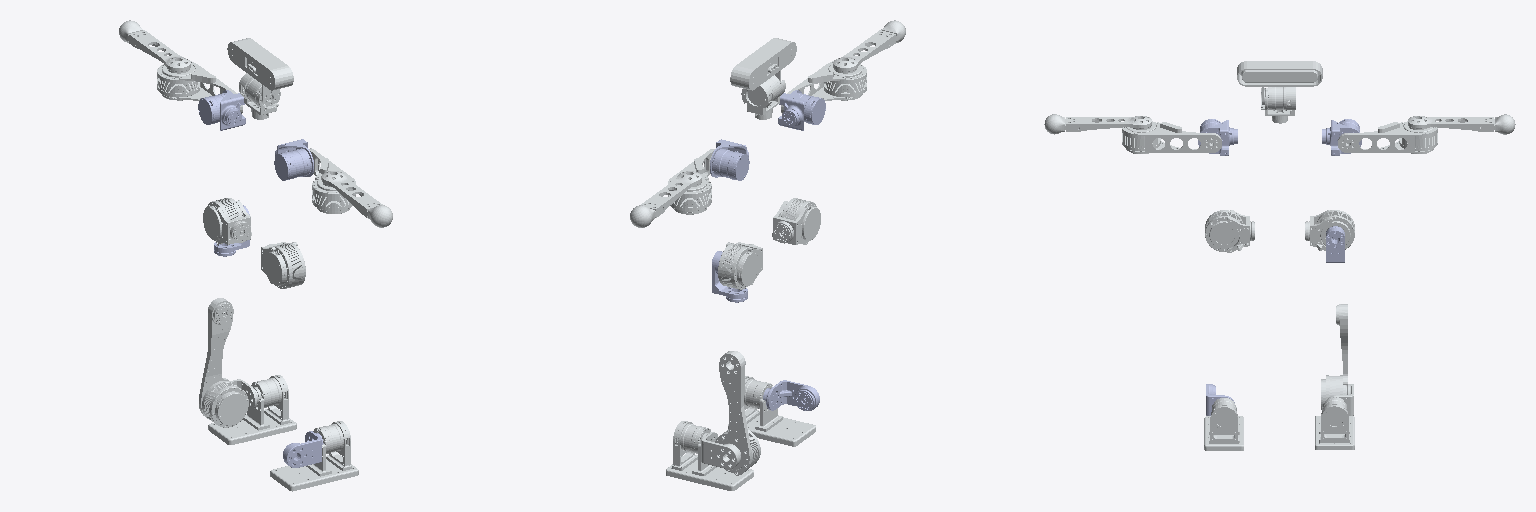
The robot description file, URDF, robot "MOS92_urdf_0308":
<?xml version='1.0' encoding='utf-8'?>
<robot name="MOS92_urdf_0308">
  <link name="base_link">
    <inertial>
      <origin xyz="-0.0182501208826118 -0.00190049970240902 0.0863636963583089" rpy="0 0 0" />
      <mass value="4.35806806126274" />
      <inertia ixx="0.0126554214449882" ixy="-1.94365827372157E-06" ixz="-0.000106200880503345" iyy="0.00838591116778958" iyz="-3.40121566836312E-07" izz="0.00895360202585989" />
    </inertial>
    <visual>
      <origin xyz="0 0 0" rpy="0 0 0" />
      <geometry>
        <mesh filename="../meshes/body.STL" />
      </geometry>
      <material name="">
        <color rgba="0.898039215686275 0.917647058823529 0.929411764705882 1" />
      </material>
    </visual>
    <collision>
      <origin xyz="-0.02 0 0.14" rpy="0 0 0" />
      <geometry>
        <cylinder radius="0.10" length="0.2" /></geometry>
    </collision>
  </link>
  <link name="neck">
    <inertial>
      <origin xyz="-0.000187733021383862 0.00313210111852241 0.0367257386628151" rpy="0 0 0" />
      <mass value="0.243152851941267" />
      <inertia ixx="0.000107527809141662" ixy="2.32844382833212E-09" ixz="-3.79598574699867E-07" iyy="0.000106047679861548" iyz="6.89109259403018E-06" izz="0.000100507717987487" />
    </inertial>
    <visual>
      <origin xyz="0 0 0" rpy="0 0 0" />
      <geometry>
        <mesh filename="../meshes/neck.STL" />
      </geometry>
      <material name="">
        <color rgba="0.898039215686275 0.917647058823529 0.929411764705882 1" />
      </material>
    </visual>
    <!-- <collision>
      <origin xyz="0 0 0" rpy="0 0 0" />
      <geometry>
        <cylinder radius="0.0193" length="0.0882" /></geometry>
    </collision> -->
  </link>
  <joint name="neck_yaw" type="fixed">
    <origin xyz="-0.005 0 0.2441" rpy="0 0 0" />
    <parent link="base_link" />
    <child link="neck" />
    <axis xyz="0 0 -1" />
  </joint>
  <link name="head">
    <inertial>
      <origin xyz="-0.00148614977503109 0.0537575763860302 -0.0296115992755681" rpy="0 0 0" />
      <mass value="0.322467436272026" />
      <inertia ixx="0.000786985359858465" ixy="8.48624102566507E-08" ixz="3.88916575671315E-09" iyy="0.000779452507232674" iyz="-7.57222414279963E-06" izz="9.3920453594969E-05" />
    </inertial>
    <visual>
      <origin xyz="0 0 0" rpy="0 0 0" />
      <geometry>
        <mesh filename="../meshes/head.STL" />
      </geometry>
      <material name="">
        <color rgba="0.898039215686275 0.917647058823529 0.929411764705882 1" />
      </material>
    </visual>
    <collision>
      <origin xyz="0 0.045 -0.03" rpy="0 0 0" />
      <geometry>
        <cylinder radius="0.04" length="0.2" /></geometry>
    </collision>
  </link>
  <joint name="neck_pitch" type="fixed">
    <origin xyz="0 -0.033 0.0475" rpy="1.5707963267949 0 0" />
    <parent link="neck" />
    <child link="head" />
    <axis xyz="0 0 -1" />
  </joint>
  <link name="Rshoulder">
    <inertial>
      <origin xyz="-0.00132059633693976 5.62178901126614E-05 -0.0337001041277888" rpy="0 0 0" />
      <mass value="0.244736730758832" />
      <inertia ixx="0.000129373968243136" ixy="-8.60991135369166E-08" ixz="1.2078891148474E-05" iyy="8.79104114782035E-05" iyz="-2.4422653123027E-07" izz="0.000106520121171402" />
    </inertial>
    <visual>
      <origin xyz="0 0 0" rpy="0 0 0" />
      <geometry>
        <mesh filename="../meshes/Rshoulder.STL" />
      </geometry>
      <material name="">
        <color rgba="0.792156862745098 0.819607843137255 0.933333333333333 1" />
      </material>
    </visual>
    <!-- <collision>
      <origin xyz="0 0 0" rpy="0 0 0" />
      <geometry>
        <cylinder radius="0.0367" length="0.0914" /></geometry>
    </collision> -->
  </link>
  <joint name="right_shoulder_pitch" type="revolute">
    <origin xyz="-0.0100000000000138 -0.105000000000124 0.192100000000112" rpy="1.5707963267949 0 -3.14159265358979" />
    <parent link="base_link" />
    <child link="Rshoulder" />
    <axis xyz="0 0 -1" />
    <limit lower="-2.0" upper="2.0" />
  </joint>
  <link name="Rarm">
    <inertial>
      <origin xyz="0.123976619673335 2.3816494963344E-05 0.0179849541694587" rpy="0 0 0" />
      <mass value="0.505922675972045" />
      <inertia ixx="0.000249177335899191" ixy="2.41233180203102E-05" ixz="5.12994020146406E-05" iyy="0.000863279087734146" iyz="8.96071856183868E-06" izz="0.000769798783434279" />
    </inertial>
    <visual>
      <origin xyz="0 0 0" rpy="0 0 0" />
      <geometry>
        <mesh filename="../meshes/Rarm.STL" />
      </geometry>
      <material name="">
        <color rgba="0.898039215686275 0.917647058823529 0.929411764705882 1" />
      </material>
    </visual>
    <collision>
      <origin xyz="0.05 0 0.01" rpy="0 1.5707963267949 0" />
      <geometry>
        <cylinder radius="0.03" length="0.15" /></geometry>
    </collision>
  </link>
  <joint name="right_shoulder_roll" type="revolute">
    <origin xyz="-0.0250000000000136 0 -0.0489999999998756" rpy="0 1.5707963267949 0" />
    <parent link="Rshoulder" />
    <child link="Rarm" />
    <axis xyz="0 0 1" />
    <limit lower="-1.45" upper="1.5707963267949" />
  </joint>
  <link name="Rhand">
    <inertial>
      <origin xyz="0.109240589043814 0.000677471556759845 -0.00178541903634942" rpy="0 0 0" />
      <mass value="0.273862324070502" />
      <inertia ixx="5.2613968285487E-05" ixy="4.01189603422068E-06" ixz="2.85280392770804E-05" iyy="0.000699576611389701" iyz="1.76848091002788E-07" izz="0.000725679519367959" />
    </inertial>
    <visual>
      <origin xyz="0 0 0" rpy="0 0 0" />
      <geometry>
        <mesh filename="../meshes/Rhand.STL" />
      </geometry>
      <material name="">
        <color rgba="0.898039215686275 0.917647058823529 0.929411764705882 1" />
      </material>
    </visual>
    <collision>
      <origin xyz="0.09 0 0" rpy="0 1.5707963267949 0" />
      <geometry>
        <cylinder radius="0.02" length="0.15" /></geometry>
    </collision>
    <collision>
      <origin xyz="0.195 0 0" rpy="0 1.5707963267949 0" />
      <geometry>
        <sphere radius="0.024" /></geometry>
    </collision>
  </link>
  <joint name="right_elbow" type="revolute">
    <origin xyz="0.16 0.0286499999999997 0.0299999999999999" rpy="1.5707963267949 0 0" />
    <parent link="Rarm" />
    <child link="Rhand" />
    <axis xyz="0 0 -1" />
    <limit lower="-2.5" upper="2.5" />
  </joint>
  <link name="Lshoulder">
    <inertial>
      <origin xyz="0.00132063035506957 5.63171682046171E-05 -0.0337001075421161" rpy="0 0 0" />
      <mass value="0.244736778509988" />
      <inertia ixx="0.000129374049886736" ixy="8.53358338819827E-08" ixz="-1.20789422702937E-05" iyy="8.79120362451655E-05" iyz="-2.4164238223282E-07" izz="0.000106518334762561" />
    </inertial>
    <visual>
      <origin xyz="0 0 0" rpy="0 0 0" />
      <geometry>
        <mesh filename="../meshes/Lshoulder.STL" />
      </geometry>
      <material name="">
        <color rgba="0.792156862745098 0.819607843137255 0.933333333333333 1" />
      </material>
    </visual>
    <!-- <collision>
      <origin xyz="0 0 0" rpy="0 0 0" />
      <geometry>
        <cylinder radius="0.0367" length="0.0914" /></geometry>
    </collision> -->
  </link>
  <joint name="left_shoulder_pitch" type="revolute">
    <origin xyz="-0.00999998124092416 0.105000001016346 0.192100005298829" rpy="1.5707963267949 0 0" />
    <parent link="base_link" />
    <child link="Lshoulder" />
    <axis xyz="0 0 -1" />
    <limit lower="-2.0" upper="2.0" />
  </joint>
  <link name="Larm">
    <inertial>
      <origin xyz="0.123966814199197 2.38166802215833E-05 -0.017975150553097" rpy="0 0 0" />
      <mass value="0.505922690783429" />
      <inertia ixx="0.000249179325079772" ixy="2.41233167513086E-05" ixz="-5.12994012520643E-05" iyy="0.000863279097732329" iyz="-8.96071866395451E-06" izz="0.000769796795530053" />
    </inertial>
    <visual>
      <origin xyz="0 0 0" rpy="0 0 0" />
      <geometry>
        <mesh filename="../meshes/Larm.STL" />
      </geometry>
      <material name="">
        <color rgba="0.898039215686275 0.917647058823529 0.929411764705882 1" />
      </material>
    </visual>
    <collision>
      <origin xyz="0.05 0 -0.01" rpy="0 1.5707963267949 0" />
      <geometry>
        <cylinder radius="0.03" length="0.15" /></geometry>
    </collision>
  </link>
  <joint name="left_shoulder_roll" type="revolute">
    <origin xyz="0.0249999812409242 0 -0.0489999989836545" rpy="0 1.5707963267949 0" />
    <parent link="Lshoulder" />
    <child link="Larm" />
    <axis xyz="0 0 -1" />
    <limit lower="-1.5707963267949" upper="1.45" />
  </joint>
  <link name="Lhand">
    <inertial>
      <origin xyz="-0.109242689903327 -2.67381965457503E-08 -0.00178541891944009" rpy="0 0 0" />
      <mass value="0.273862322424458" />
      <inertia ixx="5.25890920084874E-05" ixy="-3.81681361599439E-10" ixz="-2.85285855769356E-05" iyy="0.000699601487073087" iyz="6.71512616747776E-11" izz="0.000725679519010215" />
    </inertial>
    <visual>
      <origin xyz="0 0 0" rpy="0 0 0" />
      <geometry>
        <mesh filename="../meshes/Lhand.STL" />
      </geometry>
      <material name="">
        <color rgba="0.898039215686275 0.917647058823529 0.929411764705882 1" />
      </material>
    </visual>
    <collision>
      <origin xyz="-0.09 0 0" rpy="0 1.5707963267949 0" />
      <geometry>
        <cylinder radius="0.02" length="0.15" /></geometry>
    </collision>
    <collision>
      <origin xyz="-0.195 0 0" rpy="0 1.5707963267949 0" />
      <geometry>
        <sphere radius="0.024" /></geometry>
    </collision>
  </link>
  <joint name="left_elbow" type="revolute">
    <origin xyz="0.16 0.0286500000000008 -0.0299999999999989" rpy="-1.5707963267949 0 3.14159265358979" />
    <parent link="Larm" />
    <child link="Lhand" />
    <axis xyz="0 0 -1" />
    <limit lower="-2.5" upper="2.5" />
  </joint>
  <link name="Rhip">
    <inertial>
      <origin xyz="0.00165224983746645 -0.000153256597703239 -0.04716983324128" rpy="0 0 0" />
      <mass value="0.447922579537738" />
      <inertia ixx="0.000336557260611948" ixy="6.73410632138989E-07" ixz="-1.54851819022286E-07" iyy="0.000175984295076371" iyz="-3.79544774009115E-08" izz="0.00021248524943445" />
    </inertial>
    <visual>
      <origin xyz="0 0 0" rpy="0 0 0" />
      <geometry>
        <mesh filename="../meshes/Rhip.STL" />
      </geometry>
      <material name="">
        <color rgba="0.898039215686275 0.917647058823529 0.929411764705882 1" />
      </material>
    </visual>
    <!-- <collision>
      <origin xyz="0 0 0" rpy="0 0 0" />
      <geometry>
        <cylinder radius="0.044" length="0.113" /></geometry>
    </collision> -->
  </link>
  <joint name="right_hip_pitch" type="revolute">
    <origin xyz="-0.0150000000000001 -0.0645 -0.0466" rpy="1.5707963267949 0 3.14159265358979" />
    <parent link="base_link" />
    <child link="Rhip" />
    <axis xyz="0 0 1" />
    <limit lower="-1.8" upper="1.8" />
  </joint>
  <link name="Rlap">
    <inertial>
      <origin xyz="3.09121089836495E-10 -0.031721697647471 0.000916614078336042" rpy="0 0 0" />
      <mass value="0.175119556314121" />
      <inertia ixx="0.000155307669924318" ixy="1.87603158621217E-12" ixz="3.79507968706983E-13" iyy="7.5052789038172E-05" iyz="-3.48905088975491E-05" izz="0.000137460344788302" />
    </inertial>
    <visual>
      <origin xyz="0 0 0" rpy="0 0 0" />
      <geometry>
        <mesh filename="../meshes/Rlap.STL" />
      </geometry>
      <material name="">
        <color rgba="0.898039215686275 0.917647058823529 0.929411764705882 1" />
      </material>
    </visual>
    <!-- <collision>
      <origin xyz="0 0 0" rpy="0 0 0" />
      <geometry>
        <cylinder radius="0.0468" length="0.0685" /></geometry>
    </collision> -->
  </link>
  <joint name="right_hip_roll" type="revolute">
    <origin xyz="-0.0275 0 -0.061" rpy="0 1.5707963267949 0" />
    <parent link="Rhip" />
    <child link="Rlap" />
    <axis xyz="0 0 -1" />
    <limit lower="-1.5707963267949" upper="0.25" />
  </joint>
  <link name="Rleg1">
    <inertial>
      <origin xyz="0.000530354807968397 -0.00413771934599061 -0.0824206235447885" rpy="0 0 0" />
      <mass value="0.966091751905849" />
      <inertia ixx="0.00165524755190869" ixy="6.84286273811622E-06" ixz="-4.97413624702097E-05" iyy="0.00139196745796225" iyz="7.9840999362446E-05" izz="0.000841039186200865" />
    </inertial>
    <visual>
      <origin xyz="0 0 0" rpy="0 0 0" />
      <geometry>
        <mesh filename="../meshes/Rleg1.STL" />
      </geometry>
      <material name="">
        <color rgba="0.898039215686275 0.917647058823529 0.929411764705882 1" />
      </material>
    </visual>
    <collision>
      <origin xyz="0 0 0" rpy="0 0 0" />
      <geometry>
        <cylinder radius="0.030" length="0.130" /></geometry>
    </collision>
  </link>
  <joint name="right_hip_yaw" type="revolute">
    <origin xyz="0 -0.063 0.0280000000000001" rpy="1.5707963267949 0 3.14159265358979" />
    <parent link="Rlap" />
    <child link="Rleg1" />
    <axis xyz="0 0 -1" />
    <limit lower="-1.5707963267949" upper="1.5707963267949" />
  </joint>
  <link name="Rleg2">
    <inertial>
      <origin xyz="-0.00407191869623438 -0.135567799725998 -0.00123327776602503" rpy="0 0 0" />
      <mass value="0.624084469676422" />
      <inertia ixx="0.00145322270859193" ixy="0.00017224973098276" ixz="-4.17604226750762E-06" iyy="0.000231800595801017" iyz="-3.19103261849037E-05" izz="0.00164919662535833" />
    </inertial>
    <visual>
      <origin xyz="0 0 0" rpy="0 0 0" />
      <geometry>
        <mesh filename="../meshes/Rleg2.STL" />
      </geometry>
      <material name="">
        <color rgba="0.898039215686275 0.917647058823529 0.929411764705882 1" />
      </material>
    </visual>
    <collision>
      <origin xyz="-0.005 -0.04 0" rpy="1.5707963267949 0 -0.1" />
      <geometry>
        <cylinder radius="0.028" length="0.15" /></geometry>
    </collision>
  </link>
  <joint name="right_knee" type="revolute">
    <origin xyz="-0.00900000000000004 0 -0.146" rpy="1.5707963267949 0 -1.5707963267949" />
    <parent link="Rleg1" />
    <child link="Rleg2" />
    <axis xyz="0 0 -1" />
    <limit lower="-1.0" upper="2.3" />
  </joint>
  <link name="Rankle">
    <inertial>
      <origin xyz="0.0321512482443131 -4.59865812096893E-10 -0.00303590911349036" rpy="0 0 0" />
      <mass value="0.187524858365076" />
      <inertia ixx="8.43581348561701E-05" ixy="-5.54891405587586E-12" ixz="-5.16990624082217E-05" iyy="0.000197060970011504" iyz="4.7559976232924E-12" izz="0.000176852205140379" />
    </inertial>
    <visual>
      <origin xyz="0 0 0" rpy="0 0 0" />
      <geometry>
        <mesh filename="../meshes/Rankle.STL" />
      </geometry>
      <material name="">
        <color rgba="0.792156862745098 0.819607843137255 0.933333333333333 1" />
      </material>
    </visual>
    <!-- <collision>
      <origin xyz="0 0 0" rpy="0 0 0" />
      <geometry>
        <cylinder radius="0.052" length="0.067" /></geometry>
    </collision> -->
  </link>
  <joint name="right_ankle_pitch" type="revolute">
    <origin xyz="0 -0.2 0.0177999999999997" rpy="0 0 0" />
    <parent link="Rleg2" />
    <child link="Rankle" />
    <axis xyz="0 0 -1" />
    <limit lower="-0.9" upper="2.1" />
  </joint>
  <link name="Rfoot">
    <inertial>
      <origin xyz="8.61075291624935E-09 -0.0355878322875397 0.0190508449468564" rpy="0 0 0" />
      <mass value="0.444249339436953" />
      <inertia ixx="0.000484874156663831" ixy="-1.04013978438541E-09" ixz="8.17922954088945E-12" iyy="0.000600950991503066" iyz="3.7593433377245E-06" izz="0.00032562953876197" />
    </inertial>
    <visual>
      <origin xyz="0 0 0" rpy="0 0 0" />
      <geometry>
        <mesh filename="../meshes/Rfoot.STL" />
      </geometry>
      <material name="">
        <color rgba="0.898039215686275 0.917647058823529 0.929411764705882 1" />
      </material>
    </visual>
    <collision>
      <origin xyz="0 0 0" rpy="0 0 0" />
      <geometry>
        <cylinder radius="0.03" length="0.13" /></geometry>
    </collision>
    <collision>
      <origin xyz="0.024 -0.055 -0.005" rpy="0 0 0" />
      <geometry>
        <cylinder radius="0.022" length="0.16" /></geometry>
    </collision>
    <collision>
      <origin xyz="-0.024 -0.055 -0.005" rpy="0 0 0" />
      <geometry>
        <cylinder radius="0.022" length="0.16" /></geometry>
    </collision>
  </link>
  <joint name="right_ankle_roll" type="revolute">
    <origin xyz="0.0689999999999583 0 -0.0259999999999973" rpy="0 1.5707963267949 0" />
    <parent link="Rankle" />
    <child link="Rfoot" />
    <axis xyz="0 0 1" />
    <limit lower="-0.7" upper="0.7" />
  </joint>
  <link name="Lhip">
    <inertial>
      <origin xyz="0.00165224894900179 -7.3220696434062E-05 0.0471698378385199" rpy="0 0 0" />
      <mass value="0.447922591167837" />
      <inertia ixx="0.000336557268700897" ixy="6.73410419859425E-07" ixz="1.54852005222124E-07" iyy="0.000175984305860162" iyz="4.25225663555847E-08" izz="0.00021248524919222" />
    </inertial>
    <visual>
      <origin xyz="0 0 0" rpy="0 0 0" />
      <geometry>
        <mesh filename="../meshes/Lhip.STL" />
      </geometry>
      <material name="">
        <color rgba="0.898039215686275 0.917647058823529 0.929411764705882 1" />
      </material>
    </visual>
    <!-- <collision>
      <origin xyz="0 0 0" rpy="0 0 0" />
      <geometry>
        <cylinder radius="0.044" length="0.113" /></geometry>
    </collision> -->
  </link>
  <joint name="left_hip_pitch" type="revolute">
    <origin xyz="-0.0150000000000001 0.0645 -0.0466" rpy="1.5707963267949 0 3.14159265358979" />
    <parent link="base_link" />
    <child link="Lhip" />
    <axis xyz="0 0 -1" />
    <limit lower="-1.8" upper="1.8" />
  </joint>
  <link name="Llap">
    <inertial>
      <origin xyz="3.09119480013109E-10 -0.0317216976474549 0.00091661407832061" rpy="0 0 0" />
      <mass value="0.175119556314121" />
      <inertia ixx="0.000155307669924318" ixy="1.87603139572582E-12" ixz="3.79508076653435E-13" iyy="7.5052789038172E-05" iyz="-3.48905088975491E-05" izz="0.000137460344788301" />
    </inertial>
    <visual>
      <origin xyz="0 0 0" rpy="0 0 0" />
      <geometry>
        <mesh filename="../meshes/Llap.STL" />
      </geometry>
      <material name="">
        <color rgba="0.792156862745098 0.819607843137255 0.933333333333333 1" />
      </material>
    </visual>
    <!-- <collision>
      <origin xyz="0 0 0" rpy="0 0 0" />
      <geometry>
        <cylinder radius="0.0468" length="0.0685" /></geometry>
    </collision> -->
  </link>
  <joint name="left_hip_roll" type="revolute">
    <origin xyz="-0.027499999999988 9.99999999794776E-05 0.0609999999999988" rpy="0 1.5707963267949 0" />
    <parent link="Lhip" />
    <child link="Llap" />
    <axis xyz="0 0 -1" />
    <limit lower="-0.25" upper="1.5707963267949" />
  </joint>
  <link name="Lleg1">
    <inertial>
      <origin xyz="-0.000535781615046887 -0.00413973081999081 -0.0824206486794982" rpy="0 0 0" />
      <mass value="0.966092683290071" />
      <inertia ixx="0.00165521762552366" ixy="-6.82778477112363E-06" ixz="4.97314795751503E-05" iyy="0.00139199006627133" iyz="7.98067807966714E-05" izz="0.000841059727133304" />
    </inertial>
    <visual>
      <origin xyz="0 0 0" rpy="0 0 0" />
      <geometry>
        <mesh filename="../meshes/Lleg1.STL" />
      </geometry>
      <material name="">
        <color rgba="0.898039215686275 0.917647058823529 0.929411764705882 1" />
      </material>
    </visual>
    <collision>
      <origin xyz="0 0 0" rpy="0 0 0" />
      <geometry>
        <cylinder radius="0.030" length="0.130" /></geometry>
    </collision>
  </link>
  <joint name="left_hip_yaw" type="revolute">
    <origin xyz="0 -0.0629999999999796 0.0279999999999841" rpy="1.5707963267949 0 3.14159265358979" />
    <parent link="Llap" />
    <child link="Lleg1" />
    <axis xyz="0 0 -1" />
    <limit lower="-1.5707963267949" upper="1.5707963267949" />
  </joint>
  <link name="Lleg2">
    <inertial>
      <origin xyz="0.0040643776620283 -0.135558974776272 -0.00123327766586004" rpy="0 0 0" />
      <mass value="0.624084469535357" />
      <inertia ixx="0.00145348876804195" ixy="-0.0001722077363818" ixz="4.17604198693121E-06" iyy="0.000231534517074698" iyz="-3.19103262868342E-05" izz="0.00164919660589498" />
    </inertial>
    <visual>
      <origin xyz="0 0 0" rpy="0 0 0" />
      <geometry>
        <mesh filename="../meshes/Lleg2.STL" />
      </geometry>
      <material name="">
        <color rgba="0.898039215686275 0.917647058823529 0.929411764705882 1" />
      </material>
    </visual>
    <collision>
      <origin xyz="0.005 -0.04 0" rpy="1.5707963267949 0 0.1" />
      <geometry>
        <cylinder radius="0.028" length="0.15" /></geometry>
    </collision>
  </link>
  <joint name="left_knee" type="revolute">
    <origin xyz="0.00900000000000006 0 -0.146" rpy="1.5707963267949 0 1.5707963267949" />
    <parent link="Lleg1" />
    <child link="Lleg2" />
    <axis xyz="0 0 -1" />
    <limit lower="-2.3" upper="1.0" />
  </joint>
  <link name="Lankle">
    <inertial>
      <origin xyz="-0.0321512482442743 6.91723612318285E-05 -0.00313158675555364" rpy="0 0 0" />
      <mass value="0.187524858365075" />
      <inertia ixx="8.43581348561703E-05" ixy="-5.54891369083716E-12" ixz="5.16990624082219E-05" iyy="0.000197060970011504" iyz="-4.75599754806032E-12" izz="0.000176852205140379" />
    </inertial>
    <visual>
      <origin xyz="0 0 0" rpy="0 0 0" />
      <geometry>
        <mesh filename="../meshes/Lankle.STL" />
      </geometry>
      <material name="">
        <color rgba="0.898039215686275 0.917647058823529 0.929411764705882 1" />
      </material>
    </visual>
    <!-- <collision>
      <origin xyz="0 0 0" rpy="0 0 0" />
      <geometry>
        <cylinder radius="0.052" length="0.067" /></geometry>
    </collision> -->
  </link>
  <joint name="left_ankle_pitch" type="revolute">
    <origin xyz="0 -0.2 0.0177999999999994" rpy="0 0 0" />
    <parent link="Lleg2" />
    <child link="Lankle" />
    <axis xyz="0 0 -1" />
    <limit lower="-2.1" upper="0.9" />
  </joint>
  <link name="Lfoot">
    <inertial>
      <origin xyz="-8.61075105662579E-09 -0.0355878322875431 -0.0190508449499858" rpy="0 0 0" />
      <mass value="0.444249339436954" />
      <inertia ixx="0.000484874156663831" ixy="1.04013978438732E-09" ixz="8.17922940305474E-12" iyy="0.000600950991503065" iyz="-3.75934333772457E-06" izz="0.000325629538761971" />
    </inertial>
    <visual>
      <origin xyz="0 0 0" rpy="0 0 0" />
      <geometry>
        <mesh filename="../meshes/Lfoot.STL" />
      </geometry>
      <material name="">
        <color rgba="0.898039215686275 0.917647058823529 0.929411764705882 1" />
      </material>
    </visual>
    <collision>
      <origin xyz="0 0 0" rpy="0 0 0" />
      <geometry>
        <cylinder radius="0.03" length="0.13" /></geometry>
    </collision>
    <collision>
      <origin xyz="0.024 -0.055 0.005" rpy="0 0 0" />
      <geometry>
        <cylinder radius="0.022" length="0.16" /></geometry>
    </collision>
    <collision>
      <origin xyz="-0.024 -0.055 0.005" rpy="0 0 0" />
      <geometry>
        <cylinder radius="0.022" length="0.16" /></geometry>
    </collision>
  </link>
  <joint name="left_ankle_roll" type="revolute">
    <origin xyz="-0.068999999995933 0.00155678563569939 -0.0281533249166232" rpy="0 1.5707963267949 0" />
    <parent link="Lankle" />
    <child link="Lfoot" />
    <axis xyz="0 0 -1" />
    <limit lower="-0.7" upper="0.7" />
  </joint>
</robot>

--- What the picture shows (computed from the rendered views, not written in the file) ---
3 views of the same robot in one strip: view 1: azimuth 30°, elevation 25°; view 2: azimuth 150°, elevation 25°; view 3: azimuth 270°, elevation 25° (orthographic).
Model MOS92_urdf_0308 with 21 links and 20 joints (18 revolute, 2 fixed), rooted at base_link, posed all joints at 0.
Visible links, largest first — view 1: Lleg2, Lfoot, Rfoot, head, Lhip, Larm, Rhip, Rhand, Lhand, Rarm, Lshoulder, Rshoulder (+2 smaller); view 2: Lleg2, Lfoot, Rfoot, head, Rhip, Rarm, Lhip, Lhand, Rhand, Larm, Rshoulder, Lshoulder (+4 smaller); view 3: head, Rarm, Larm, Rfoot, Lfoot, Rhip, Lhand, Rhand, Lhip, Lleg2, neck, Rshoulder (+2 smaller).
Boxes of the visible links, x1,y1,x2,y2 form: Lleg2: [199, 298, 248, 427]; Lfoot: [208, 375, 296, 444]; Rfoot: [270, 421, 358, 491]; head: [227, 38, 293, 105]; Lhip: [203, 198, 251, 244]; Larm: [157, 61, 242, 113]; Rhip: [261, 242, 305, 288]; Rhand: [321, 171, 392, 227]; Lhand: [119, 20, 190, 73]; Rarm: [309, 148, 355, 213]; Lshoulder: [198, 90, 245, 130]; Rshoulder: [274, 139, 313, 180]; Lleg2: [715, 351, 760, 475]; Lfoot: [666, 421, 753, 490]; Rfoot: [728, 376, 815, 446]; head: [730, 38, 796, 90]; Rhip: [772, 198, 820, 244]; Rarm: [781, 61, 866, 113]; Lhip: [718, 242, 762, 289]; Lhand: [630, 171, 701, 227]; Rhand: [833, 20, 905, 73]; Larm: [668, 149, 714, 214]; Rshoulder: [778, 90, 825, 130]; Lshoulder: [710, 139, 749, 180]; head: [1237, 61, 1322, 104]; Rarm: [1122, 121, 1221, 153]; Larm: [1338, 121, 1437, 153]; Rfoot: [1204, 398, 1243, 450]; Lfoot: [1315, 397, 1354, 449]; Rhip: [1205, 210, 1254, 252]; Lhand: [1408, 114, 1515, 134]; Rhand: [1044, 114, 1151, 134]; Lhip: [1305, 210, 1354, 250]; Lleg2: [1321, 304, 1347, 409]; neck: [1261, 87, 1295, 123]; Rshoulder: [1198, 119, 1237, 155].
Bounding box of the posed robot: 0.189 × 1.07 × 0.9017 m (x, y, z).
16 mesh visuals loaded from 21 distinct referenced files (16 binary STL); not drawn: 5 (reference not matched to a file when rendering).
